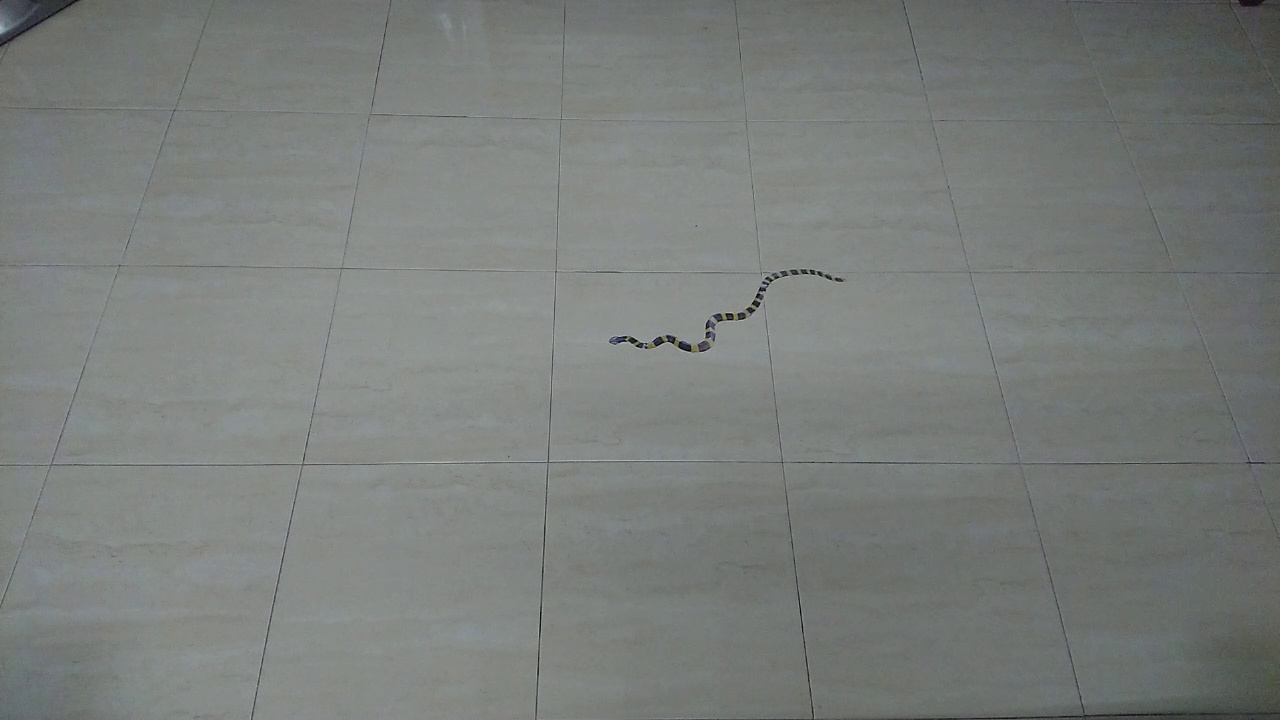snake: (596, 257, 856, 367)
